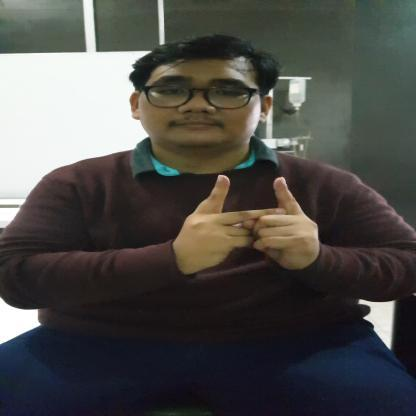H: (173, 173, 321, 271)
